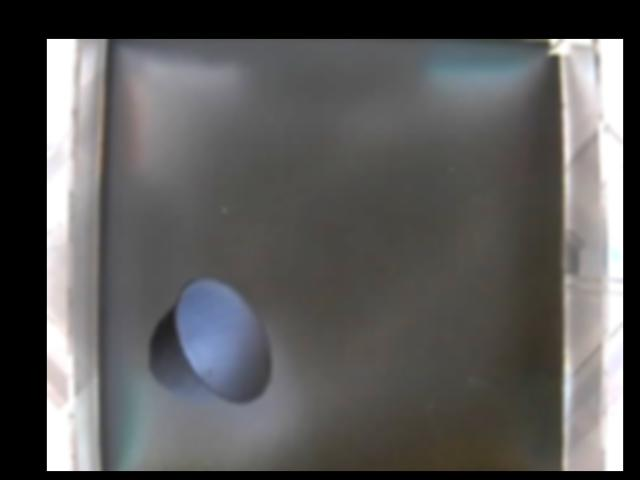Cup: (148, 280, 275, 404)
